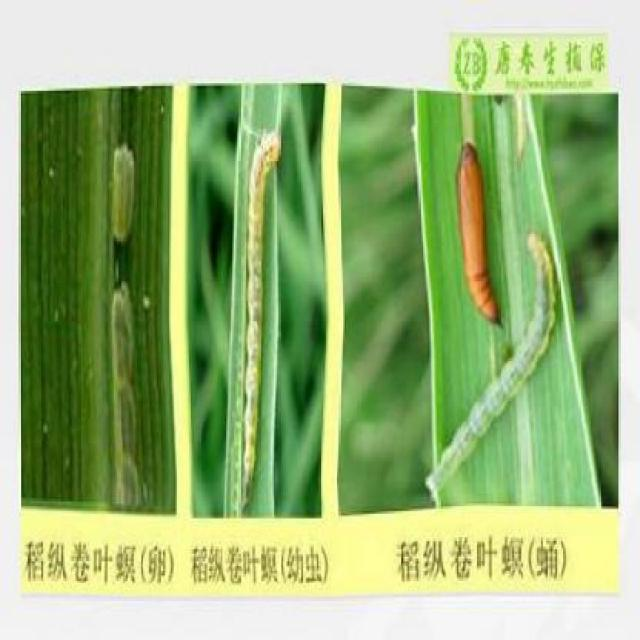leaf-folder: (417, 142, 571, 504), (224, 104, 273, 505), (100, 150, 149, 488)
